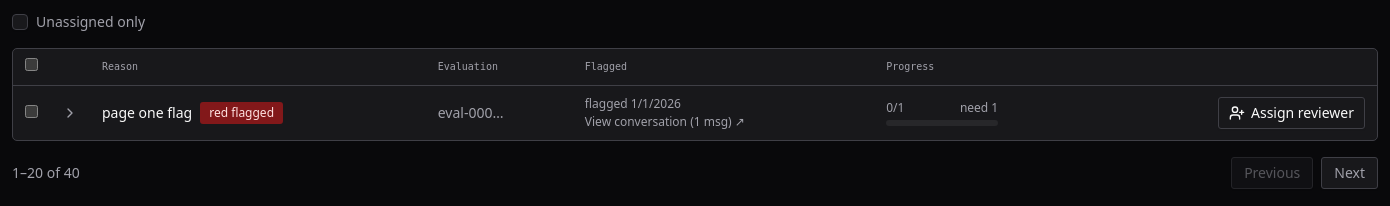
Test: ReviewQueuePage — unassigned filter › asks the server for unassigned flags only when the toggle is on
Expected: the link "page one flag" is shown, [102,102,192,122]
Click the checkbox named "unassigned only" at (20, 22), box [12,14,28,30]
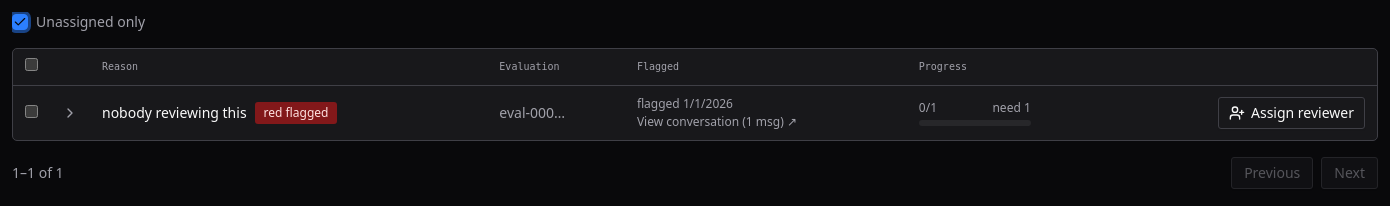
Expected: the link "nobody reviewing this" is shown, [102,102,247,122]
